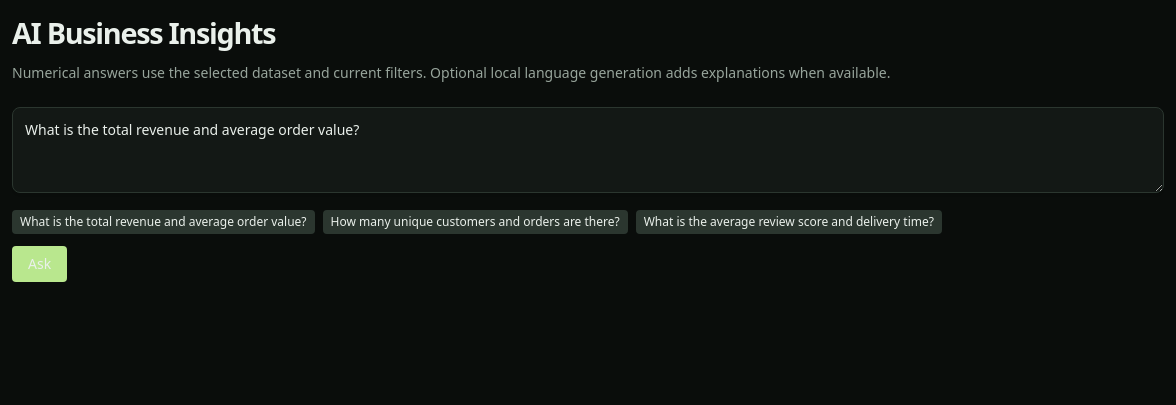
Test: keeps B when B finishes before A
Click the button "What is the total revenue and average order value?" at (163, 222), box [12,210,314,234]
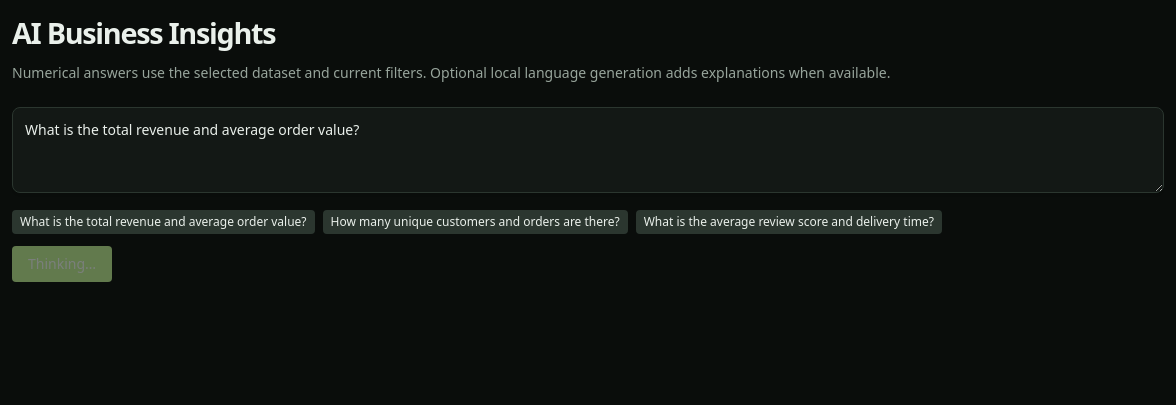
Click the button "How many unique customers and orders are there?" at (475, 222), box [322,210,628,234]
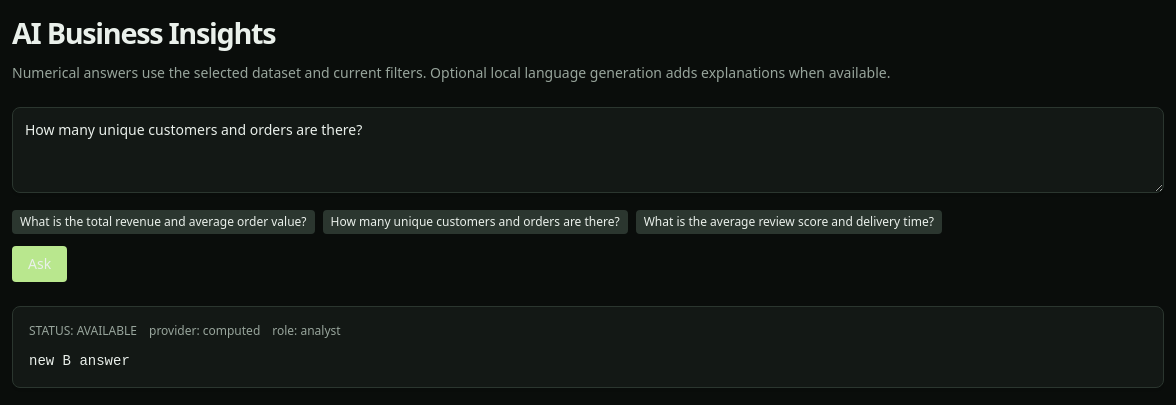
Check: the text "new B answer" is shown, box [29,352,130,368]
